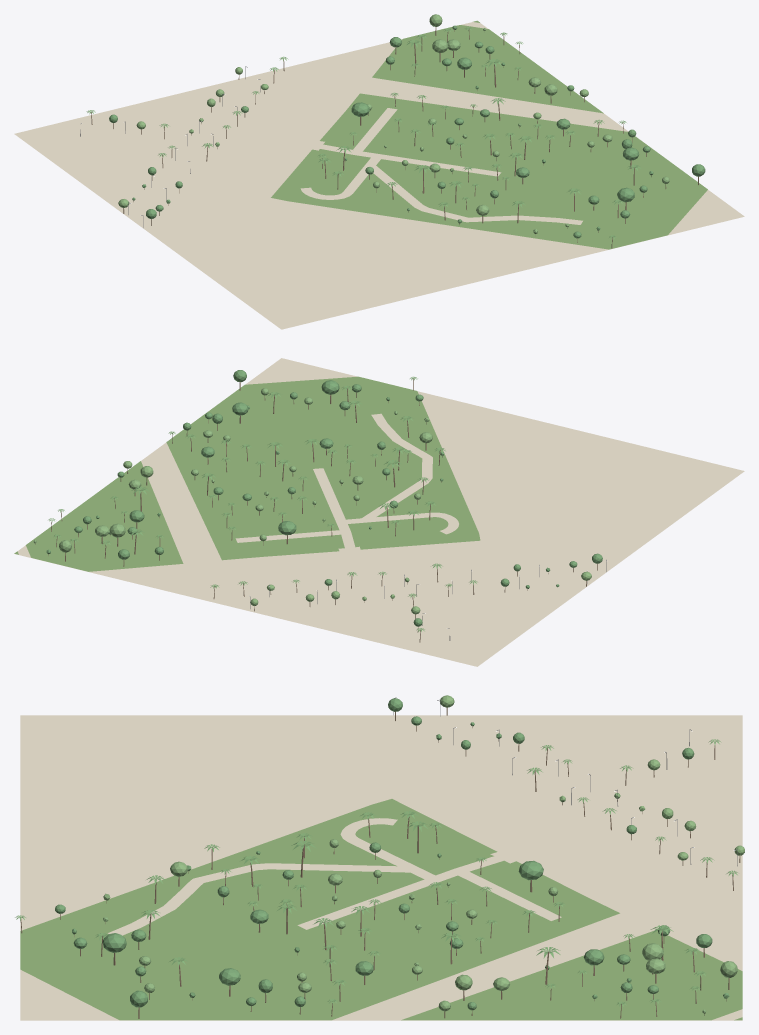
Rendered from nature_2_-5.glb.
3 renders of one model, top to bottom at view 1: azimuth 30°, elevation 25°; view 2: azimuth 150°, elevation 25°; view 3: azimuth 270°, elevation 25°, orthographic. The views are drawn at different scales.
Parts seen in each view (by area): view 1: ground, grass, foliage_a, foliage_b, palm_leaf, trunk; view 2: ground, grass, foliage_a, foliage_b, palm_leaf, trunk; view 3: ground, grass, foliage_a, foliage_b, palm_leaf, trunk.
Boxes of the visible parts, x1,y1,x2,y2 form: ground: (14,22,744,329); grass: (271,20,707,249); foliage_a: (109,25,705,238); foliage_b: (118,14,669,233); palm_leaf: (86,27,640,238); trunk: (91,27,698,248); ground: (14,358,744,666); grass: (14,376,480,571); foliage_a: (46,370,602,626); foliage_b: (33,388,591,614); palm_leaf: (48,376,477,631); trunk: (35,378,597,642); ground: (20,715,742,1020); grass: (20,799,742,1020); foliage_a: (55,698,729,1010); foliage_b: (103,695,744,1013); palm_leaf: (15,739,737,1006); trunk: (20,707,740,1018).
Bounding box in the file's own units: 254 × 13.23 × 253.
